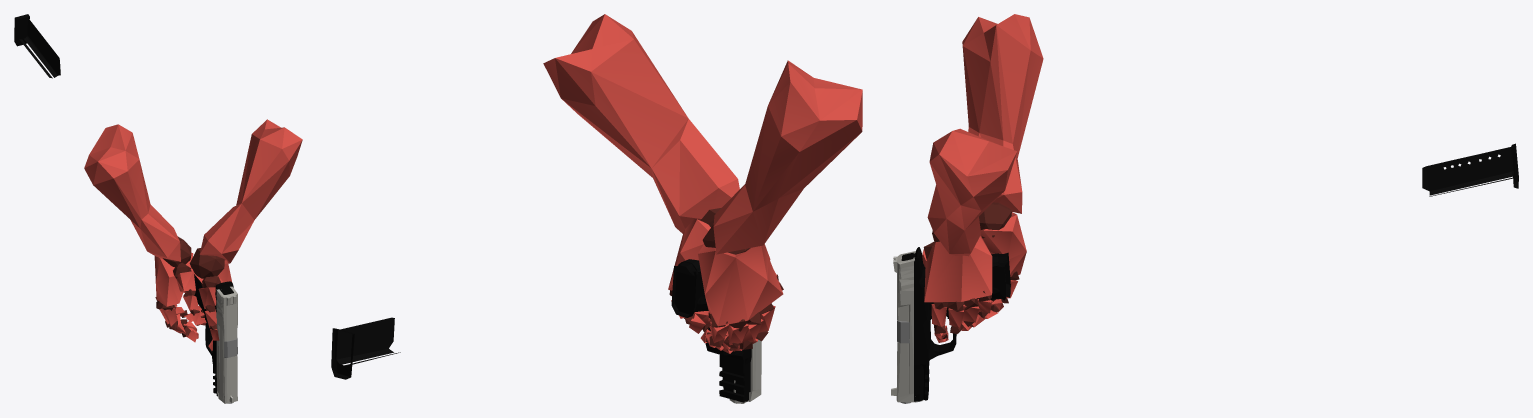
Rendered from M&P9reloadNormal1lowP_000147.obj.
3 views of the same model, side by side, from view 1: azimuth 30°, elevation 25°; view 2: azimuth 150°, elevation 25°; view 3: azimuth 270°, elevation 25° (orthographic). The views are drawn at different scales.
Parts seen in each view (by area): view 1: Beta_Surface.001_Beta_Surface.002, slide_平面.002, Beta_Joints.001_Beta_Joints.002, magazine_平面.003, triger_平面.001; view 2: Beta_Surface.001_Beta_Surface.002, triger_平面.001, magazine_平面.003, Beta_Joints.001_Beta_Joints.002, slide_平面.002; view 3: Beta_Surface.001_Beta_Surface.002, triger_平面.001, magazine_平面.003, slide_平面.002, Beta_Joints.001_Beta_Joints.002.
Part boxes in pixels (bbox=[...]): Beta_Surface.001_Beta_Surface.002: bbox=[84, 119, 302, 350]; slide_平面.002: bbox=[216, 286, 237, 403]; Beta_Joints.001_Beta_Joints.002: bbox=[155, 236, 224, 337]; magazine_平面.003: bbox=[14, 14, 60, 78]; triger_平面.001: bbox=[194, 274, 237, 403]; Beta_Surface.001_Beta_Surface.002: bbox=[543, 14, 862, 353]; triger_平面.001: bbox=[673, 259, 751, 402]; magazine_平面.003: bbox=[331, 317, 400, 379]; Beta_Joints.001_Beta_Joints.002: bbox=[669, 208, 778, 350]; slide_平面.002: bbox=[729, 339, 761, 403]; Beta_Surface.001_Beta_Surface.002: bbox=[922, 14, 1043, 342]; triger_平面.001: bbox=[897, 247, 1008, 403]; magazine_平面.003: bbox=[1422, 143, 1518, 196]; slide_平面.002: bbox=[891, 251, 923, 402]; Beta_Joints.001_Beta_Joints.002: bbox=[923, 202, 1019, 339].
Bounding box in the file's own units: 62.82 × 78.28 × 130.
